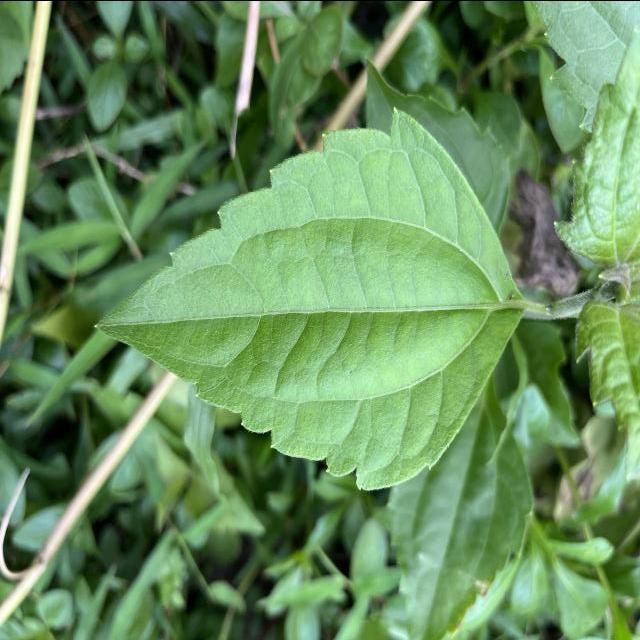Chromolaena odorata: (86, 99, 532, 496)
